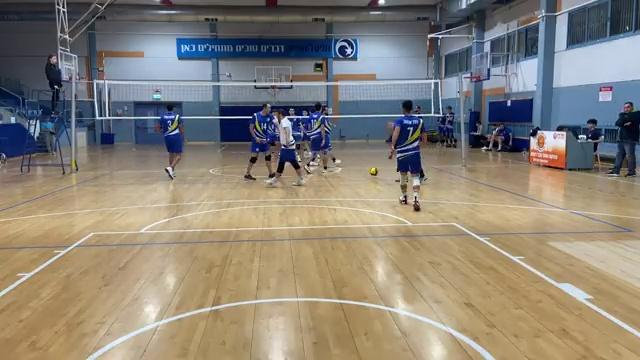ball: (366, 166, 382, 179)
